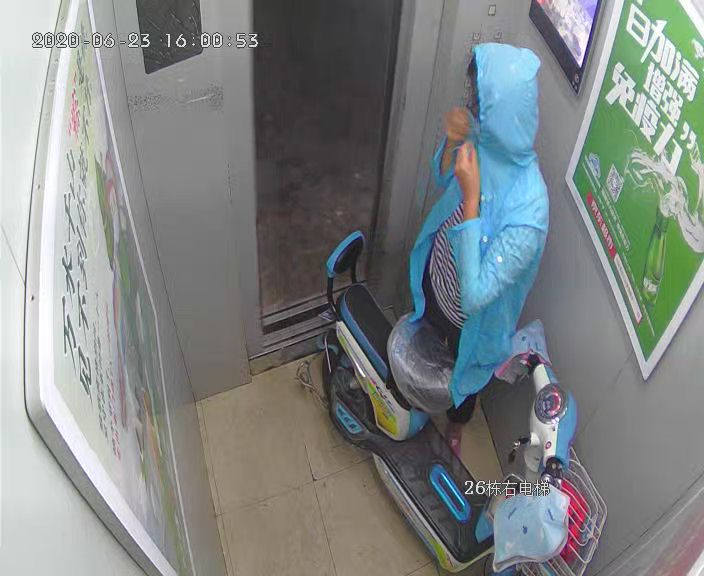Electric-bicycle: (315, 231, 602, 576)
